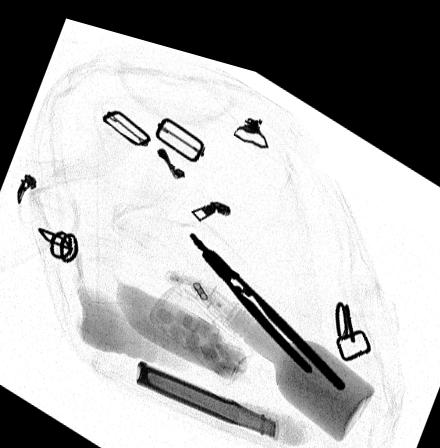Pliers: (186, 220, 346, 372)
